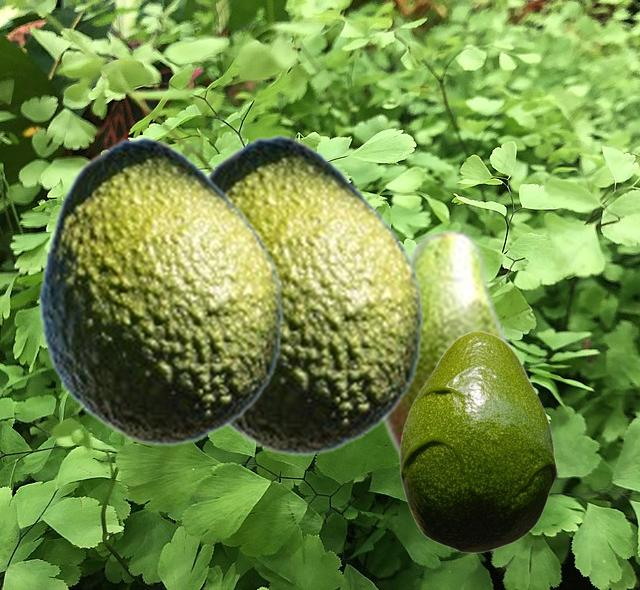avocado: (36, 136, 283, 446), (206, 134, 423, 456), (399, 330, 556, 552), (379, 226, 519, 464)
